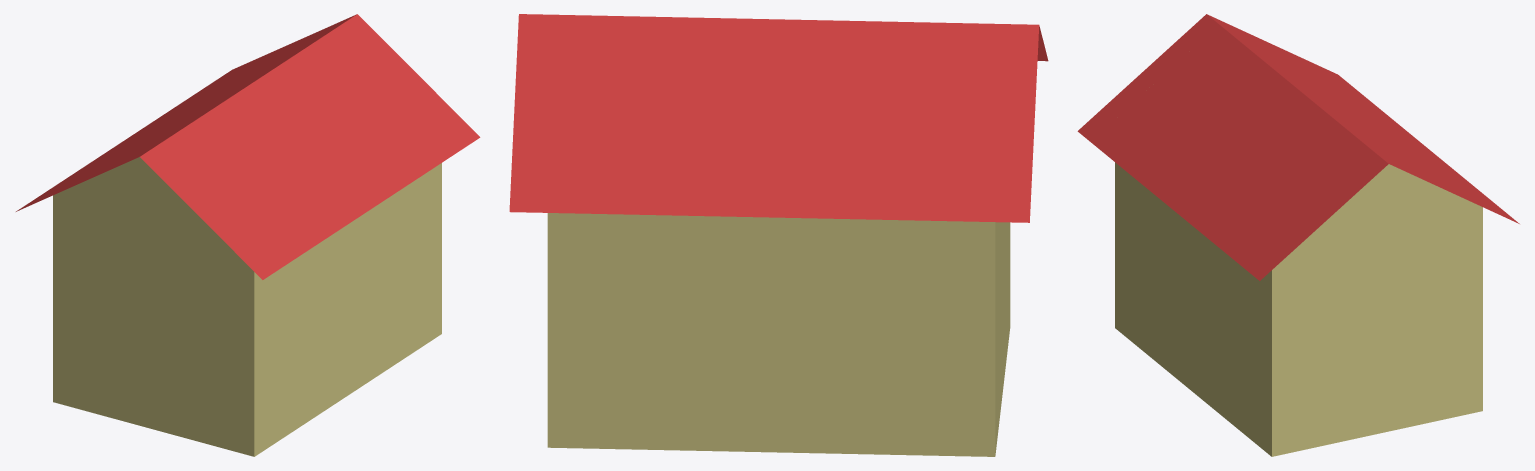
3 renders of one model, left to right at view 1: azimuth 30°, elevation 25°; view 2: azimuth 150°, elevation 25°; view 3: azimuth 270°, elevation 25°, orthographic. The views are drawn at different scales.
Bounding box in the file's own units: 17.58 × 15.93 × 11.14.
